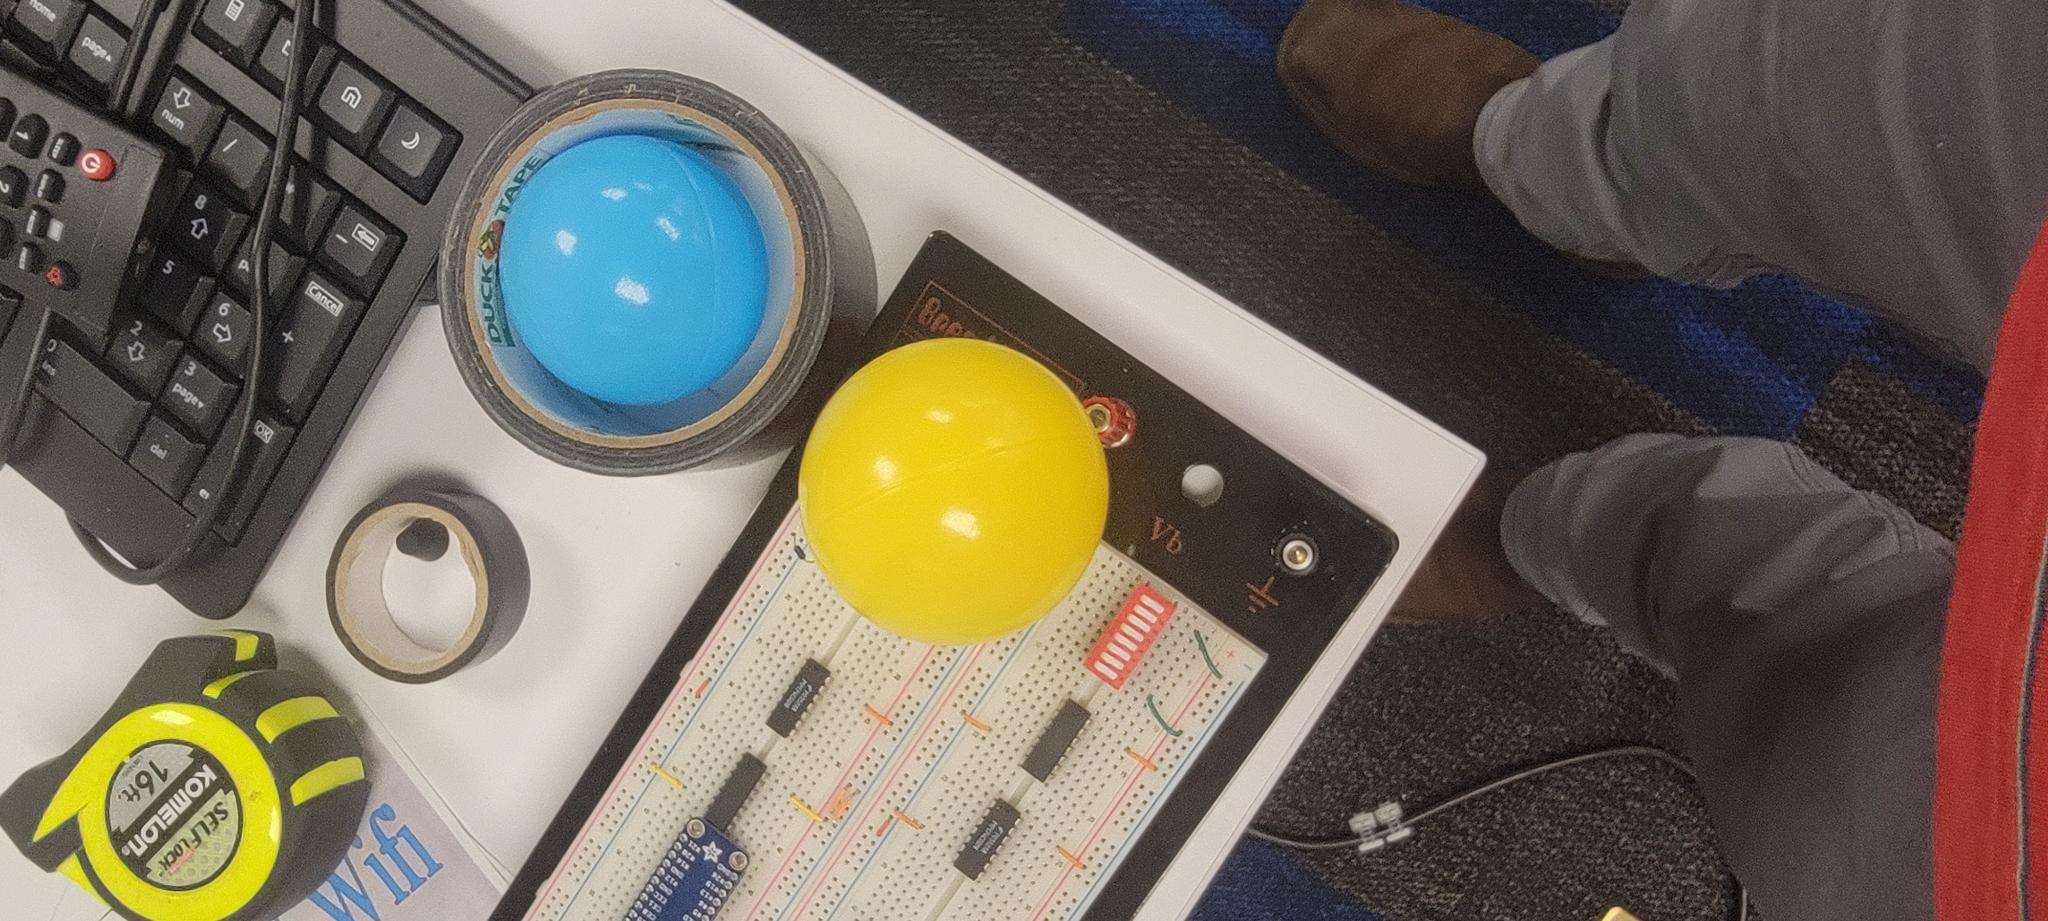Yellow-Ball: (281, 798, 586, 921)
